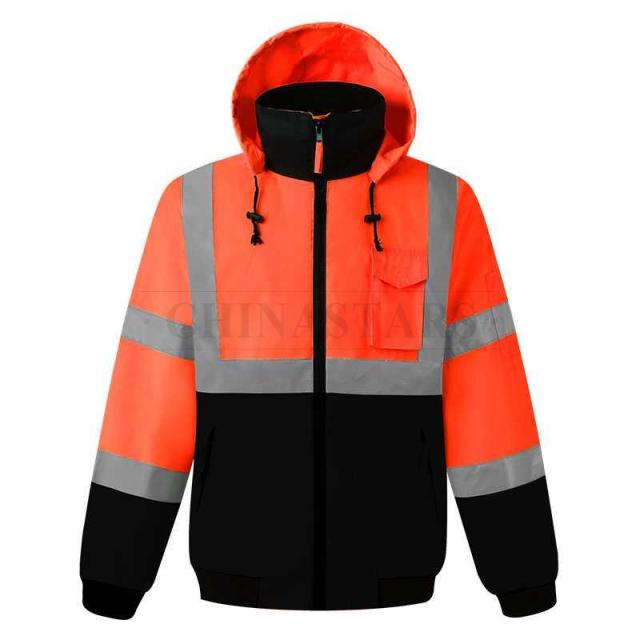Reflective-Jacket: (71, 130, 588, 632)
